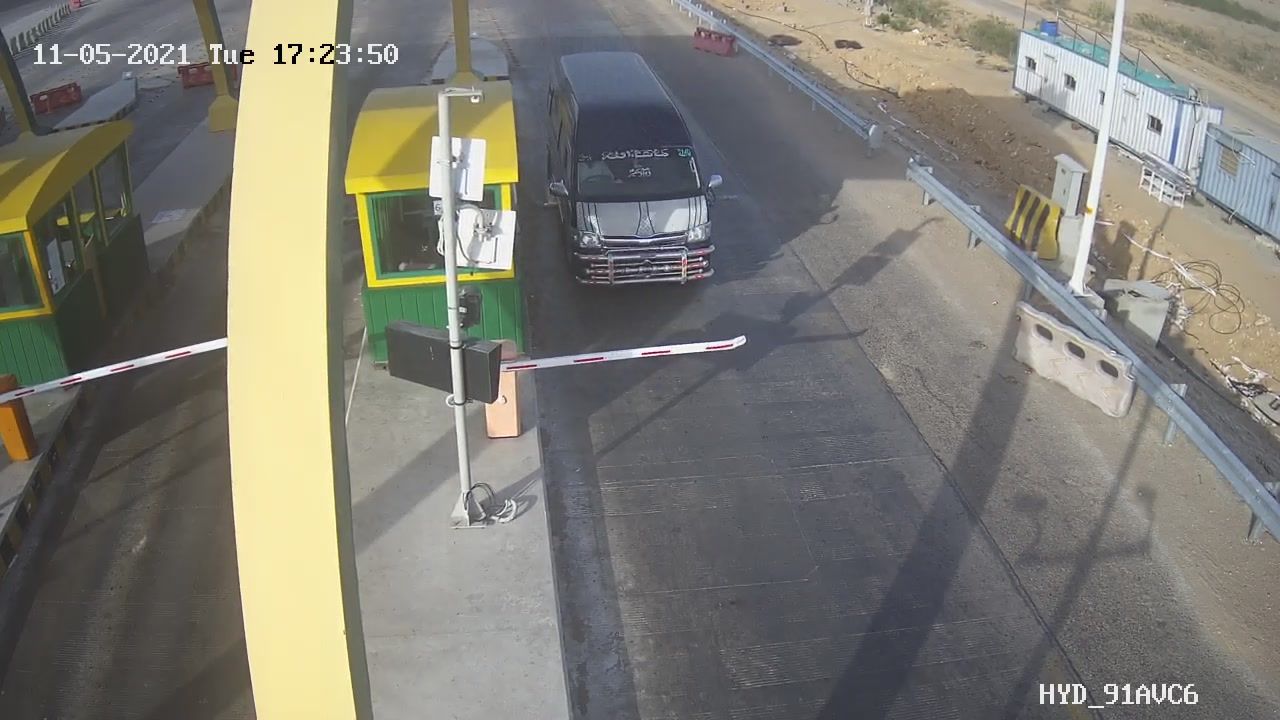F2: (521, 35, 740, 311)
